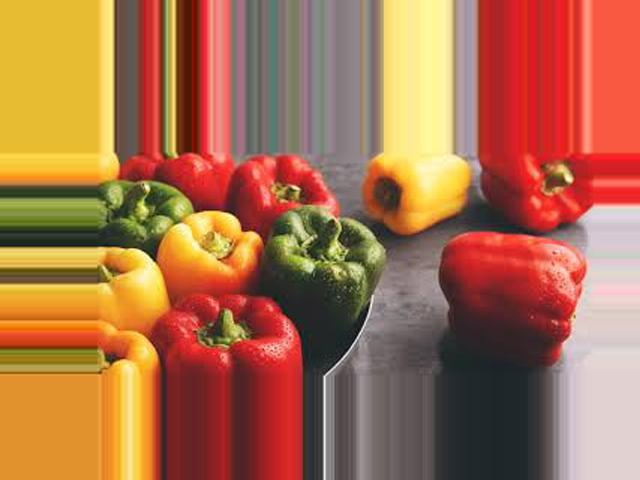bell_pepper: (478, 160, 595, 227)
